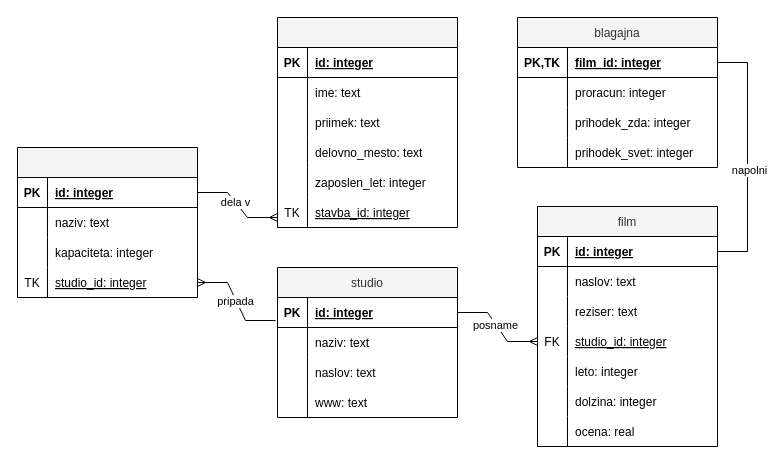
The diagram is 784 pixels wide and 464 high, and some of its shapes have lost their labels. The shapes that lost their labels are listed below. From the top down, each one's box as (x1, y1, x2, y2) in pixels, then its label:
(276, 16, 458, 228): zaposleni
(16, 146, 198, 298): stavba
